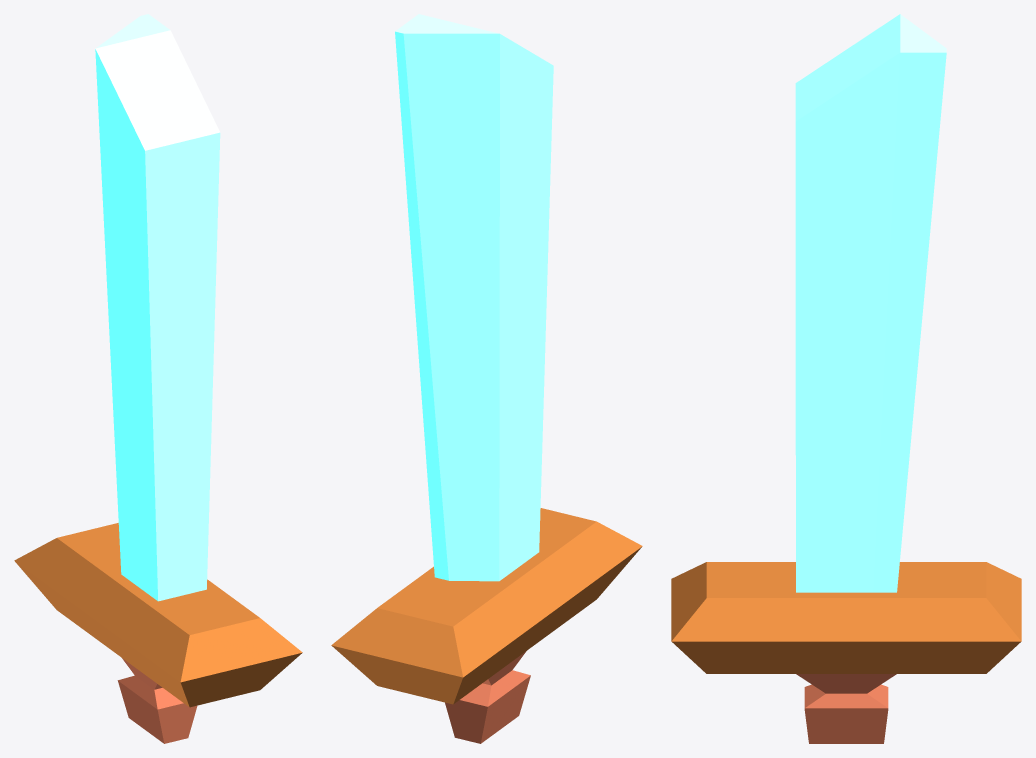
The model's file is Sword.fbx.
3 renders of one model, left to right at view 1: azimuth 30°, elevation 25°; view 2: azimuth 150°, elevation 25°; view 3: azimuth 270°, elevation 25°, orthographic. The views are drawn at different scales.
Parts seen in each view (by area): view 1: Sword; view 2: Sword; view 3: Sword.
Boxes of the visible parts, x1=… form: Sword: x1=14, y1=14, x2=302, y2=743; Sword: x1=331, y1=14, x2=642, y2=743; Sword: x1=671, y1=14, x2=1021, y2=743.
Bounding box in the file's own units: 241 × 1259 × 567.
